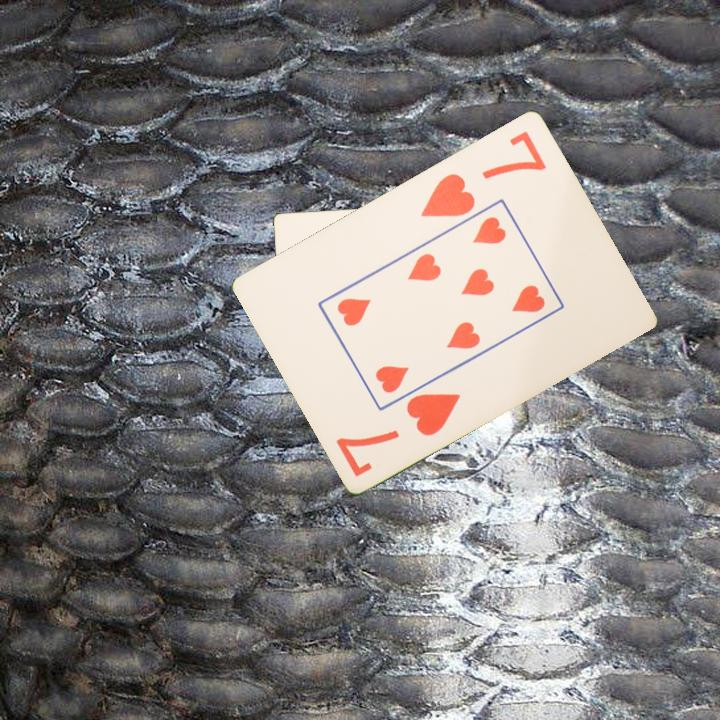7h: (417, 126, 550, 220), (333, 389, 464, 480)
